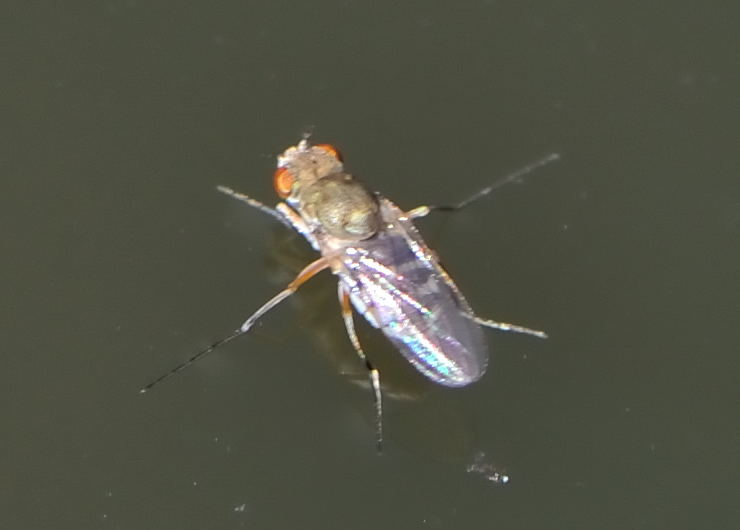Ephydridae: (138, 120, 572, 451)
